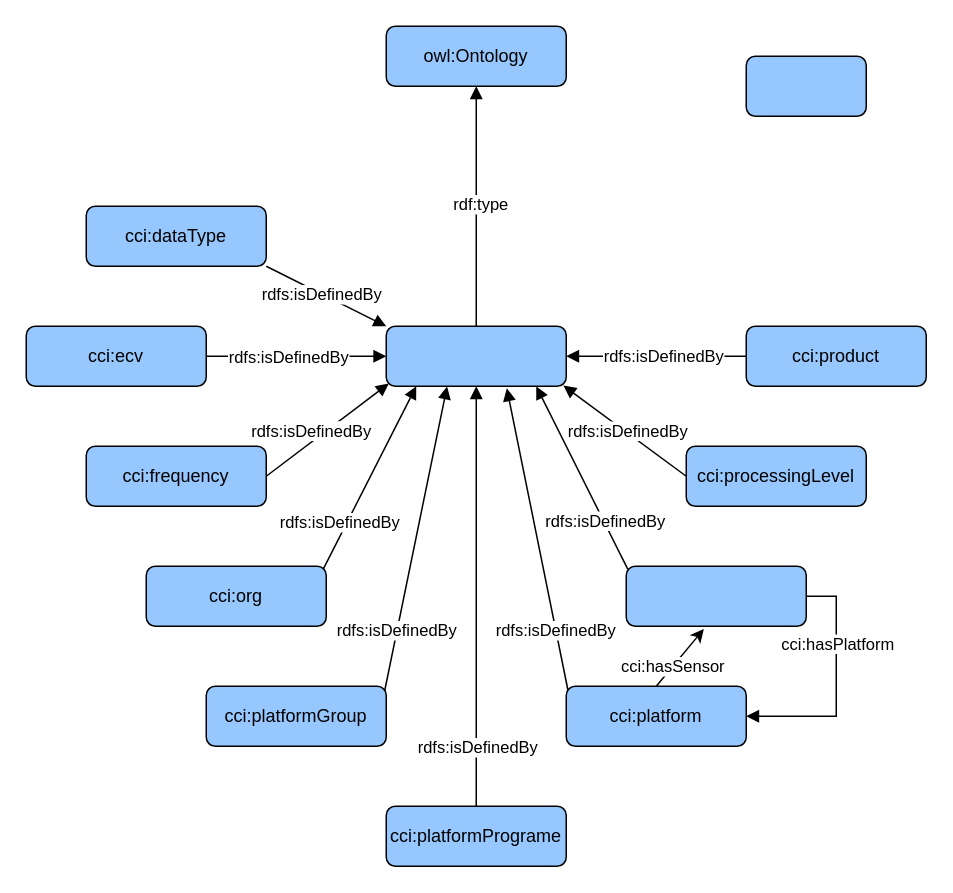
Image size: 953x893. Some labels were removed from this diagram. The shapes that lost their labels are listed below. From the top down, each one's box as (x1, y1, x2, y2) in pixels, then its label:
(745, 55, 866, 116): class
(385, 325, 566, 386): cci
(625, 565, 806, 626): cci:sensor
